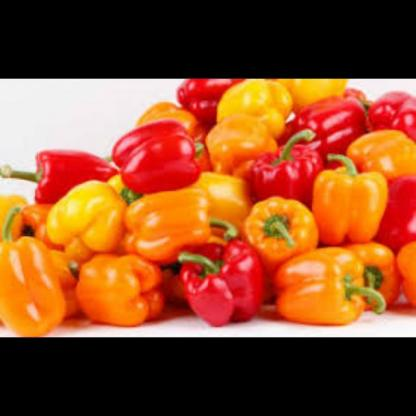bell pepper: (0, 78, 416, 328)
